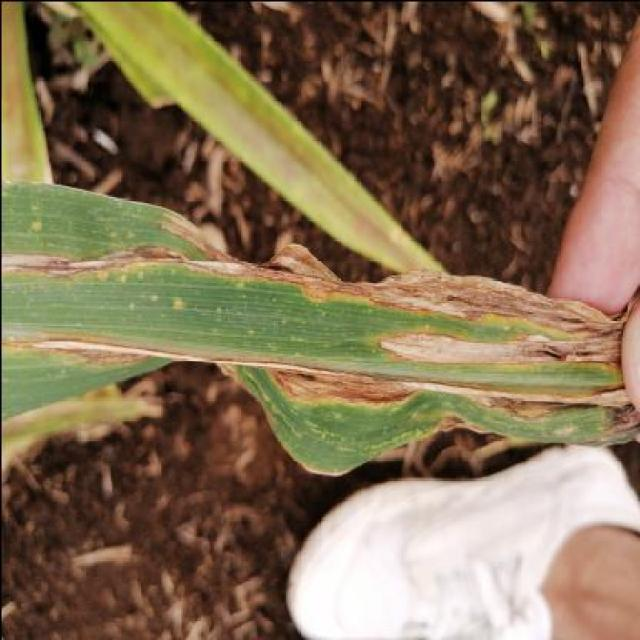Corn_Leaf_Blight: (0, 183, 620, 477)
